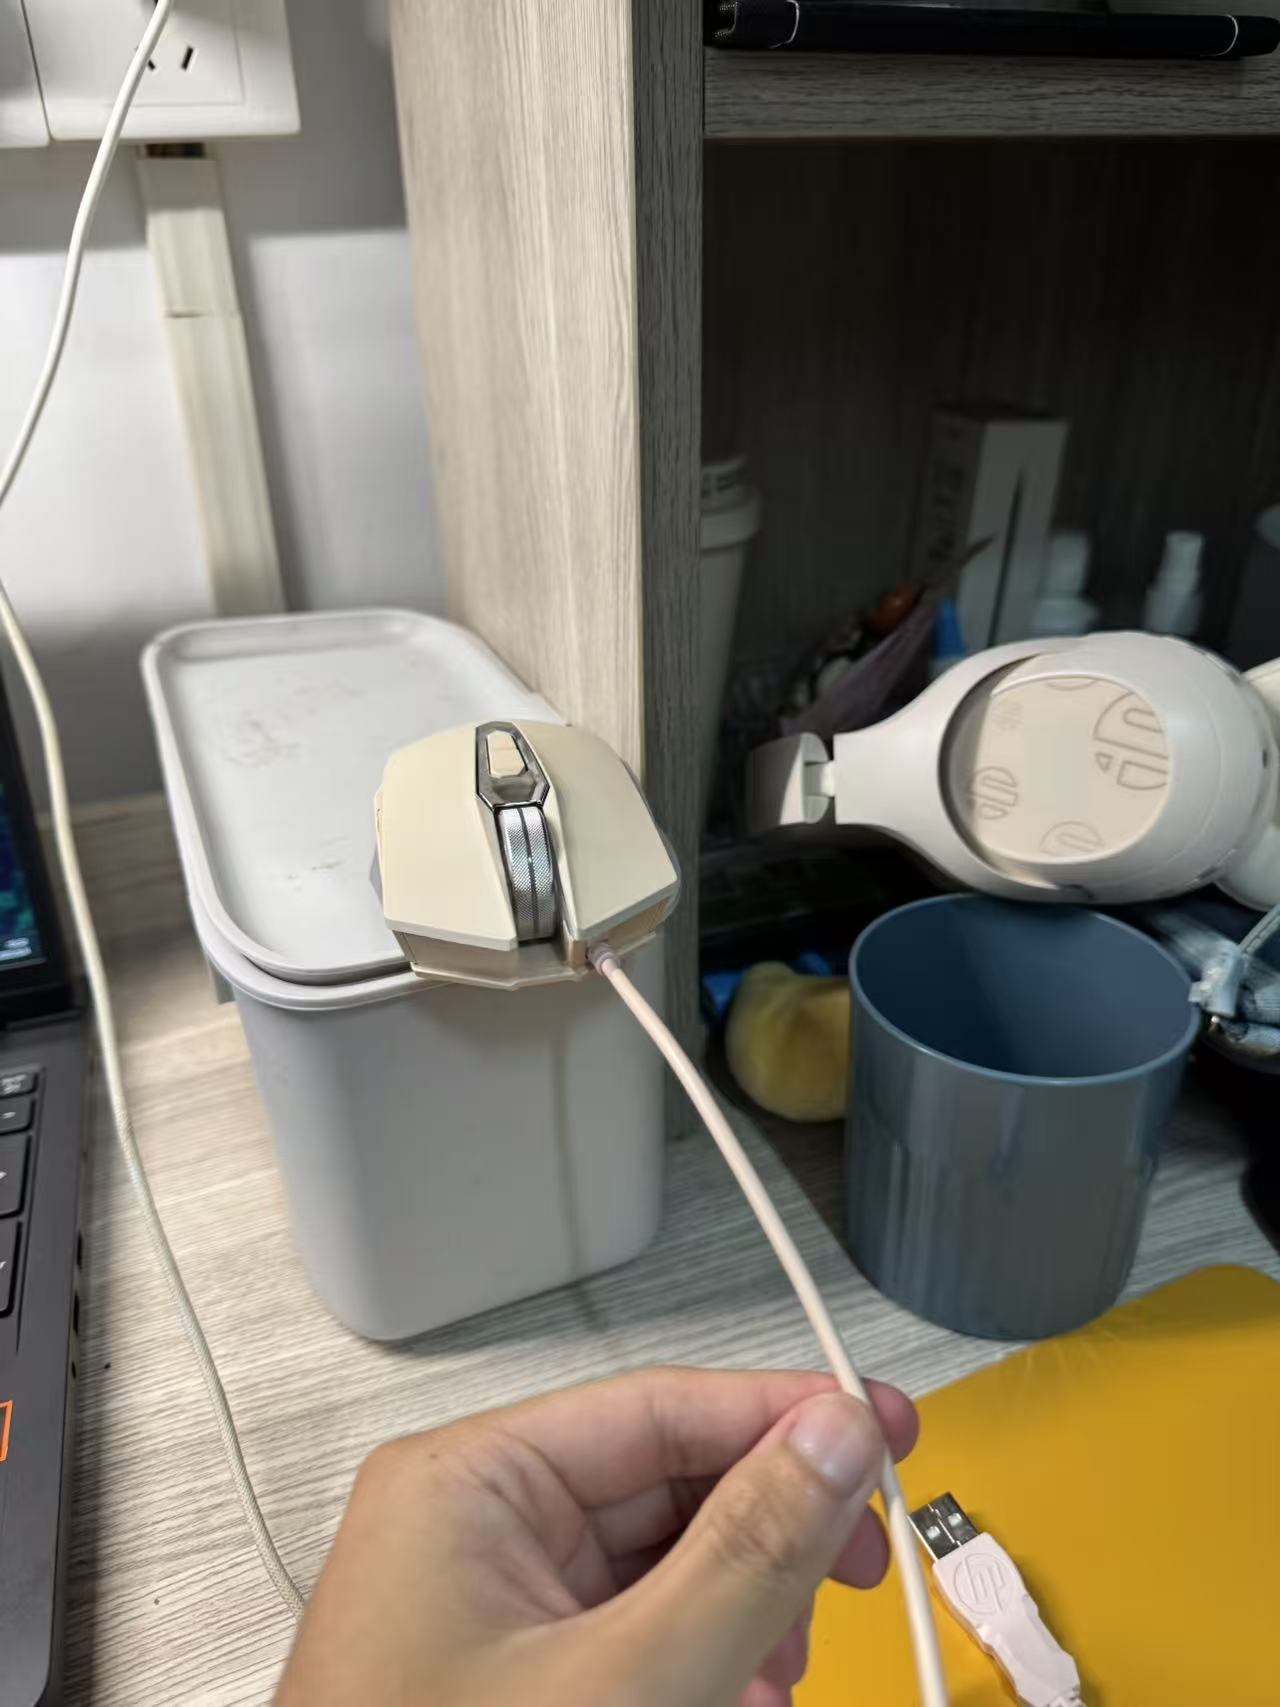mouse: (347, 694, 739, 1045)
